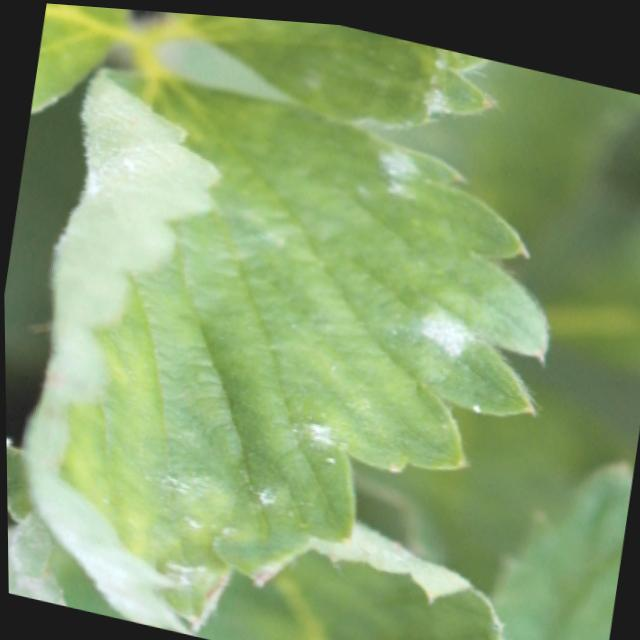Powdery Mildew Leaf: (21, 62, 552, 634), (167, 10, 502, 124), (275, 515, 512, 640), (30, 3, 136, 113)
